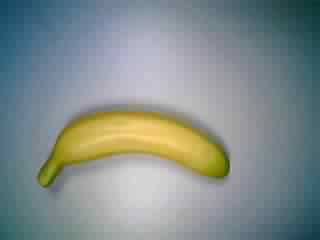banana: (31, 105, 232, 200)
